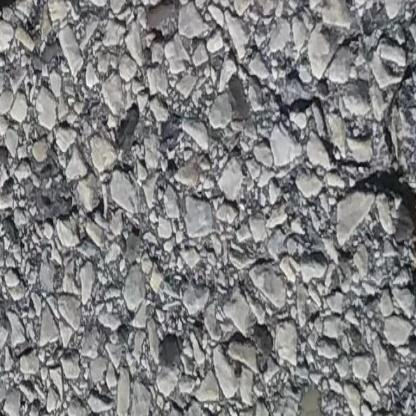Cracks: (348, 167, 416, 328), (0, 0, 44, 24)
